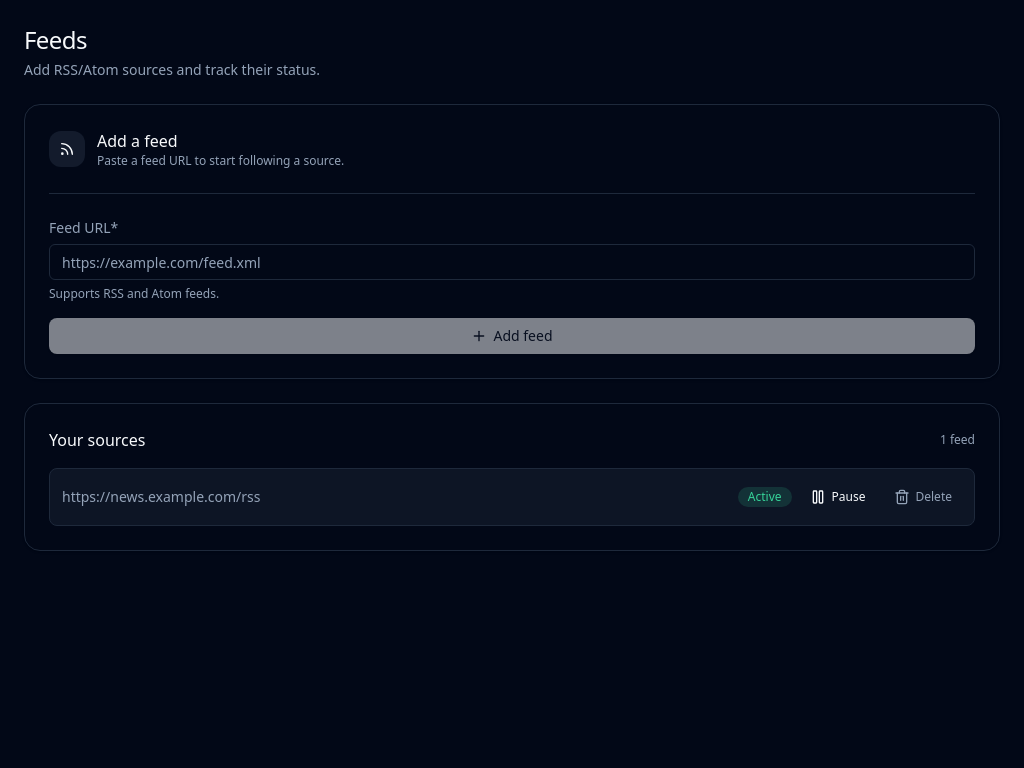
Test: Dashboard FeedsPage › deletes a feed via the delete endpoint and removes it from the list
The width and height of the screenshot is (1024, 768).
Expected: the text "https://news.example.com/rss" is shown, top-left (62, 487), bottom-right (260, 507)
Click the button "Delete". click: (923, 497)
box: top-left (884, 481), bottom-right (962, 513)
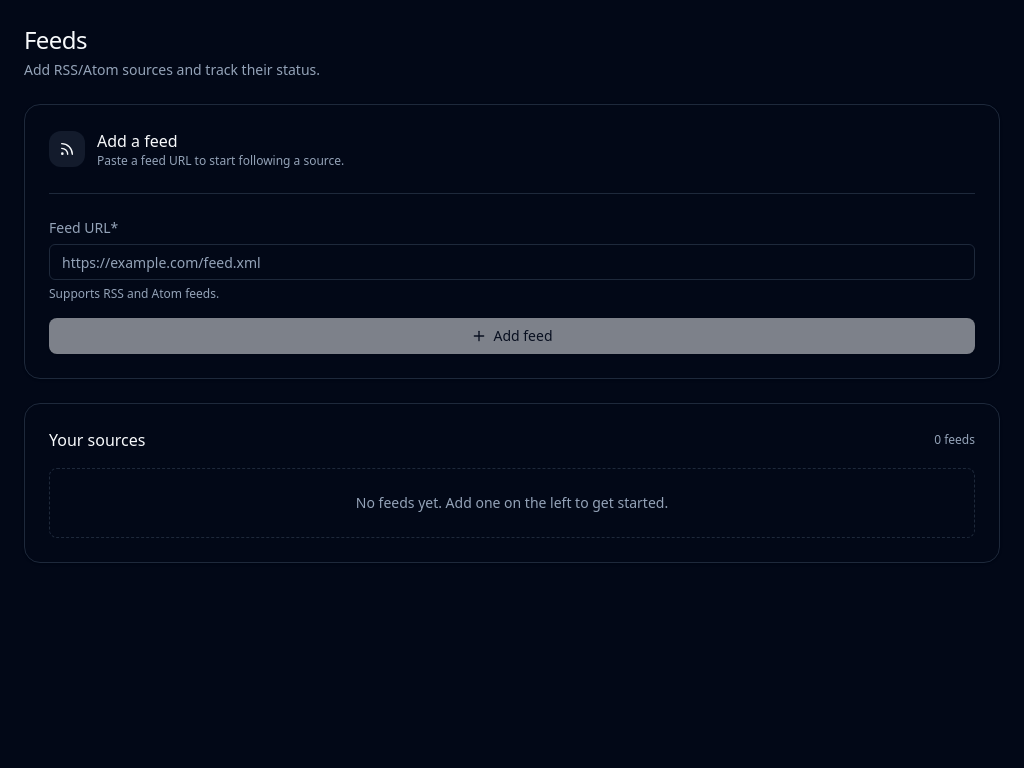
Result: the text "https://news.example.com/rss" is gone
